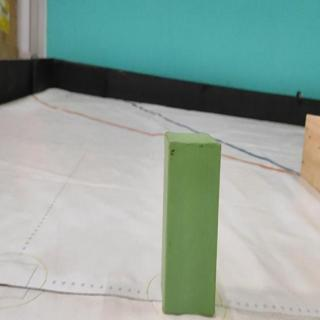greenbox: (164, 130, 218, 314)
